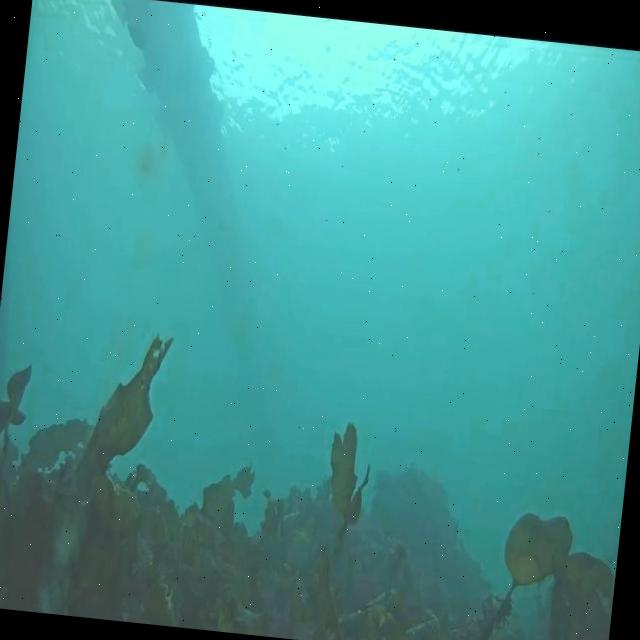fish: (122, 12, 150, 56)
